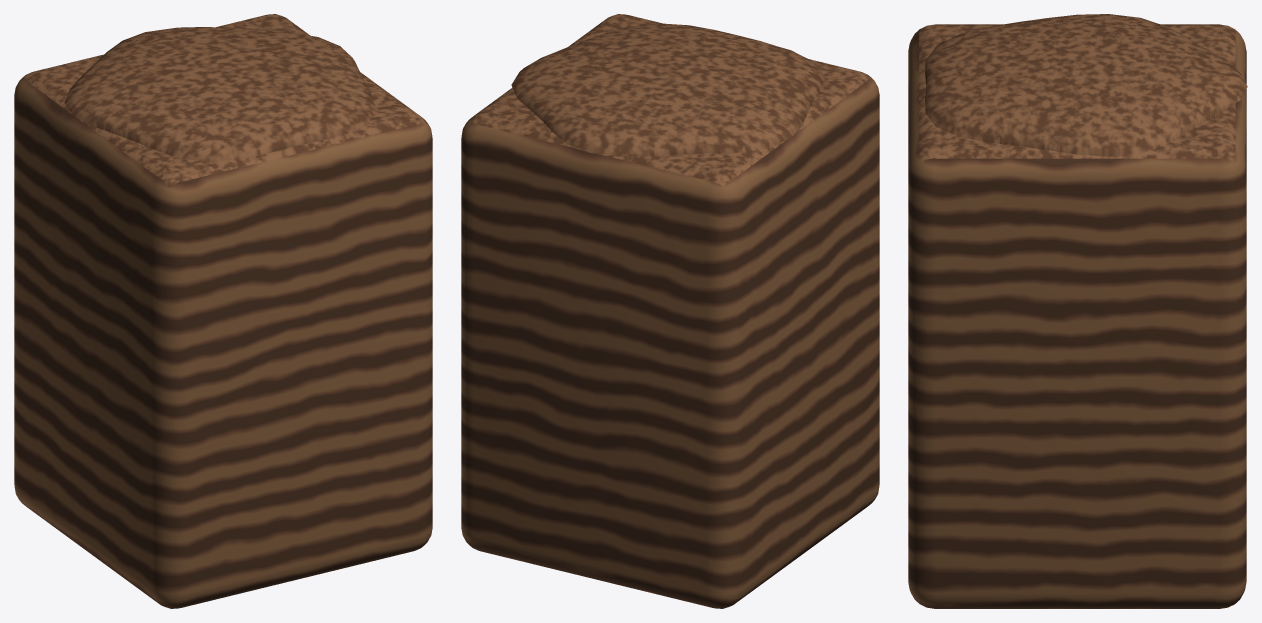
File: SM_Tile_Soil.fbx
3 views of the same model, side by side, from view 1: azimuth 30°, elevation 25°; view 2: azimuth 150°, elevation 25°; view 3: azimuth 270°, elevation 25° (orthographic). The views are drawn at different scales.
Parts seen in each view (by area): view 1: SM_Tile_Soil; view 2: SM_Tile_Soil; view 3: SM_Tile_Soil.
Part boxes in pixels (x1,y1,x2,y2): SM_Tile_Soil: (14, 14, 432, 608); SM_Tile_Soil: (461, 14, 879, 608); SM_Tile_Soil: (908, 14, 1247, 608).
Bounding box in the file's own units: 2 × 3.16 × 2.01.
